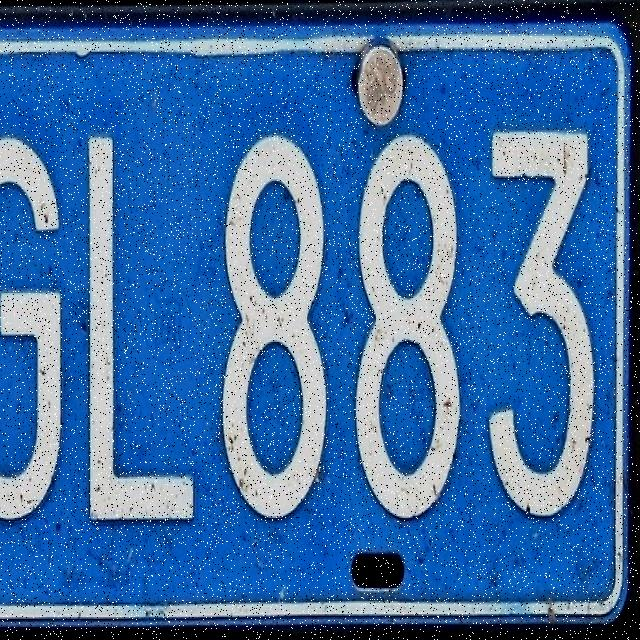licenseplate: (1, 26, 628, 615)
